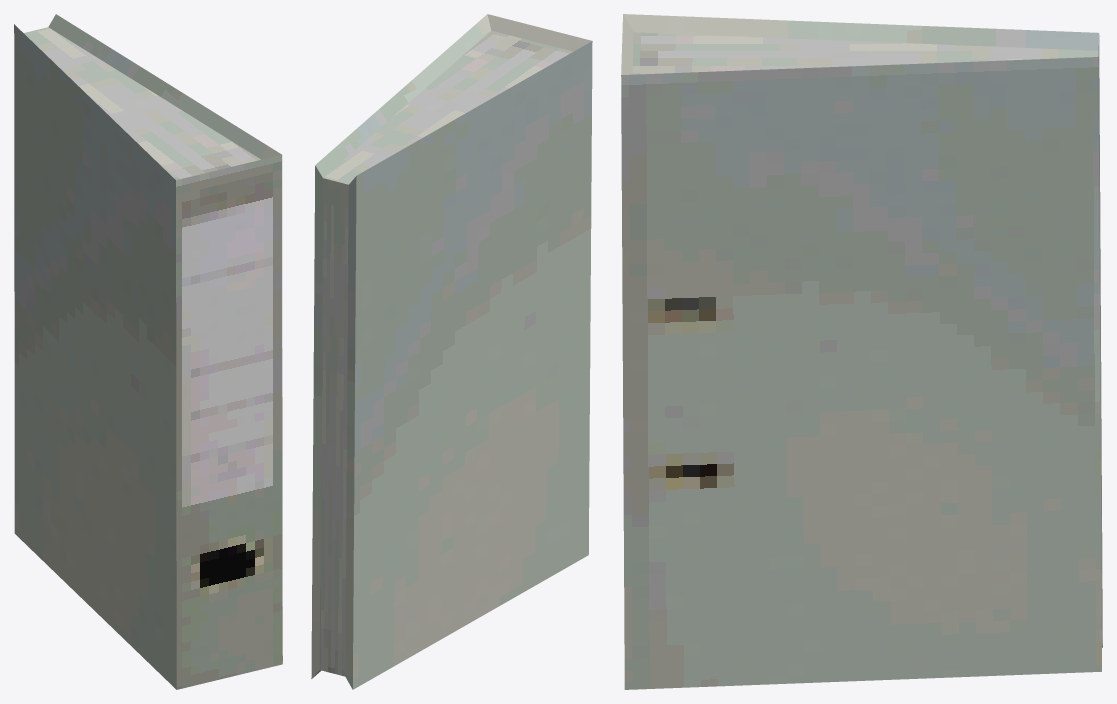
Rendered from file_binder.glb.
The picture shows the model from 3 angles, left to right: view 1: azimuth 30°, elevation 25°; view 2: azimuth 150°, elevation 25°; view 3: azimuth 270°, elevation 25°; orthographic projection. The views are drawn at different scales.
Visible parts, largest first — view 1: file_binder; view 2: file_binder; view 3: file_binder.
Boxes of the visible parts, x1,y1,x2,y2 form: file_binder: [14, 14, 282, 689]; file_binder: [311, 14, 592, 689]; file_binder: [621, 14, 1102, 689].
Bounding box in the file's own units: 0.093 × 0.4243 × 0.3006.
Materials: 1 (1 with a texture image).
